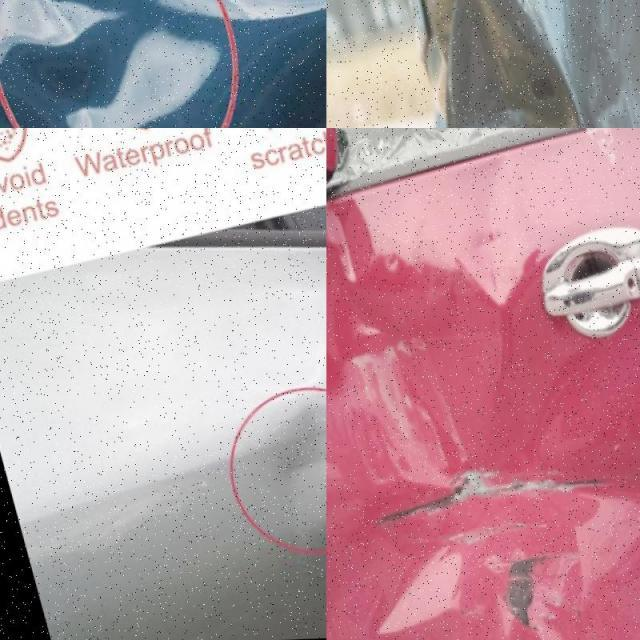car damage: (329, 243, 519, 492), (1, 0, 234, 128), (431, 0, 602, 133), (372, 534, 473, 631), (277, 397, 334, 535), (367, 470, 473, 532), (500, 557, 540, 634), (491, 473, 606, 498)
